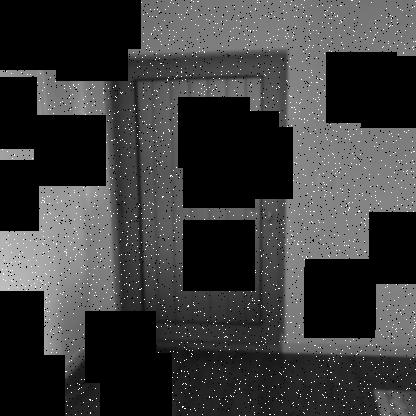Porte: (101, 47, 295, 352)
